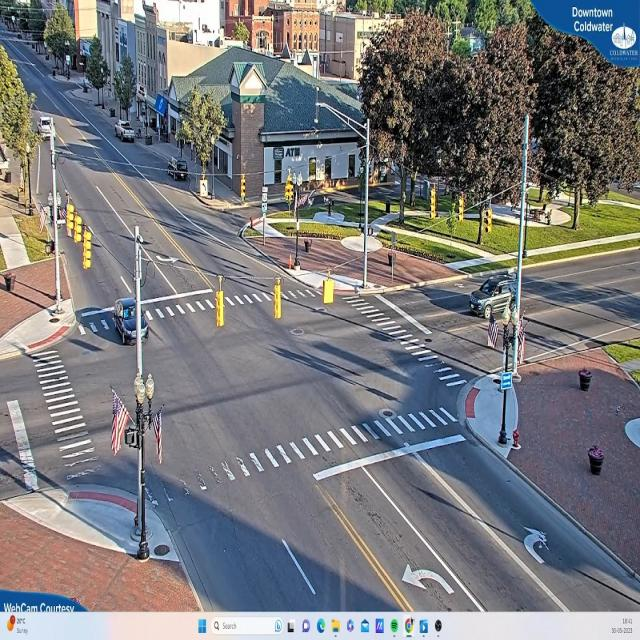car: (468, 272, 515, 317), (114, 298, 148, 347), (117, 122, 137, 144)
